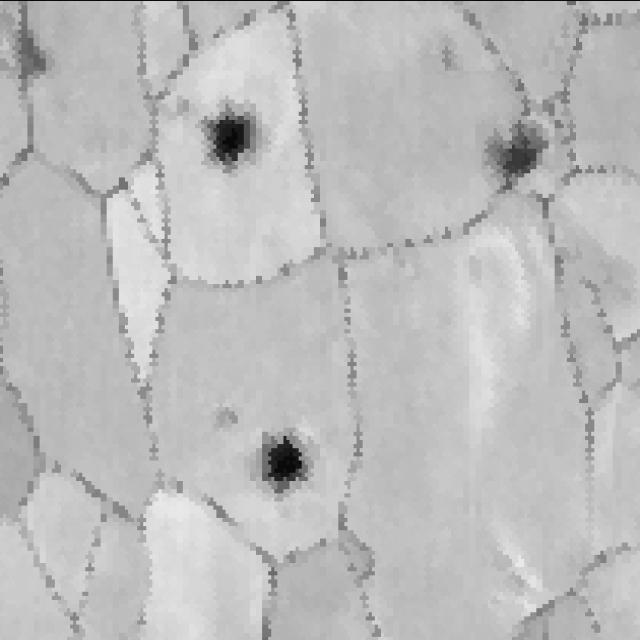good_void: (197, 94, 264, 190), (260, 422, 328, 515), (485, 117, 545, 194), (12, 26, 54, 111), (213, 392, 249, 437), (436, 36, 467, 80), (169, 83, 198, 123)
